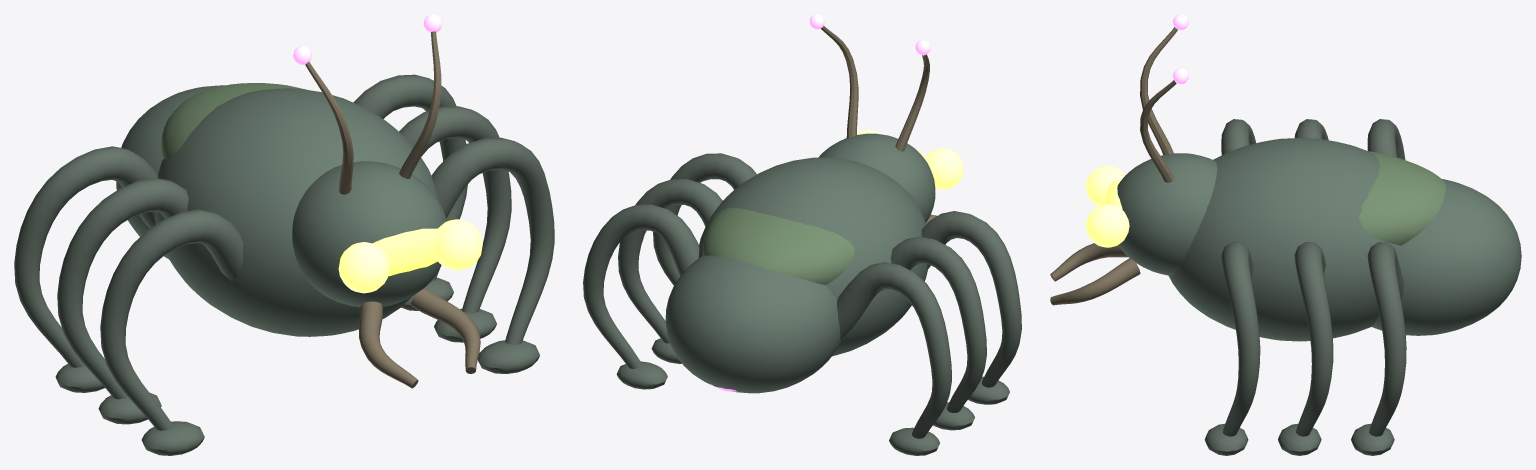
The model's file is alien_grunt.glb.
3 renders of one model, left to right at view 1: azimuth 30°, elevation 25°; view 2: azimuth 150°, elevation 25°; view 3: azimuth 270°, elevation 25°, orthographic. The views are drawn at different scales.
Parts seen in each view (by area): view 1: AlienGrunt; view 2: AlienGrunt; view 3: AlienGrunt.
Part boxes in pixels (bbox=[...]): AlienGrunt: bbox=[14, 14, 554, 455]; AlienGrunt: bbox=[583, 14, 1021, 455]; AlienGrunt: bbox=[1050, 14, 1521, 455].
Size of the model in its own units: 0.9677 by 0.8194 by 1.03.
